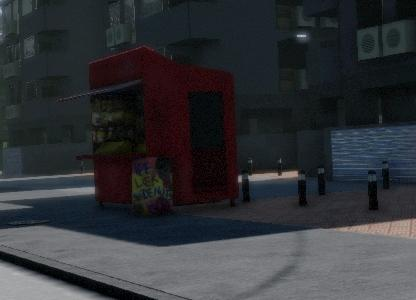Speed_60: (0, 103, 16, 141)
